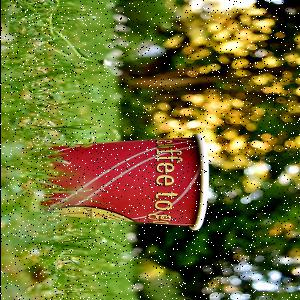Cup: (45, 135, 209, 233)
